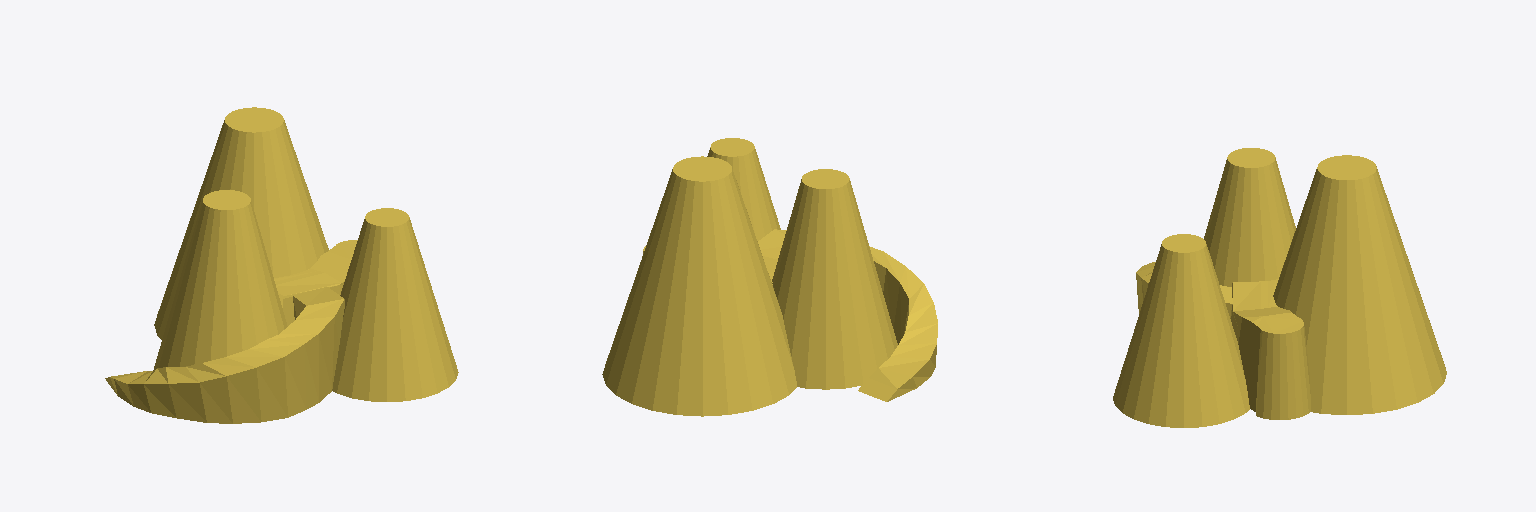
Rendered from MountainDen.obj.
3 views of the same model, side by side, from view 1: azimuth 30°, elevation 25°; view 2: azimuth 150°, elevation 25°; view 3: azimuth 270°, elevation 25° (orthographic).
Parts seen in each view (by area): view 1: Den; view 2: Den; view 3: Den.
Part boxes in pixels (x1,y1,x2,y2): Den: (105, 107, 458, 423); Den: (602, 138, 937, 416); Den: (1113, 148, 1446, 427).
Bounding box in the file's own units: 1493 × 1019 × 1490.